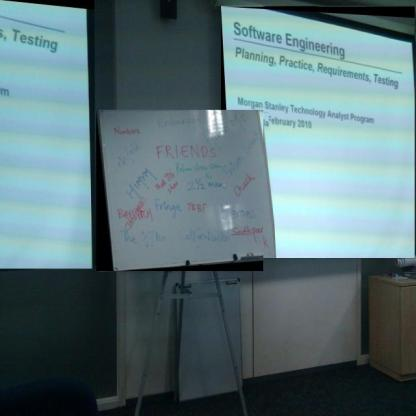Handwritten text: (215, 126, 271, 182), (119, 163, 160, 204), (149, 197, 215, 222), (174, 221, 232, 249), (152, 106, 205, 136), (106, 137, 144, 176), (150, 144, 222, 163), (115, 226, 171, 249), (174, 159, 227, 183), (226, 166, 260, 203), (150, 167, 185, 202), (218, 198, 262, 223), (110, 117, 146, 142), (227, 221, 267, 238), (206, 180, 230, 195)
Whiteboard: (98, 95, 279, 272)
